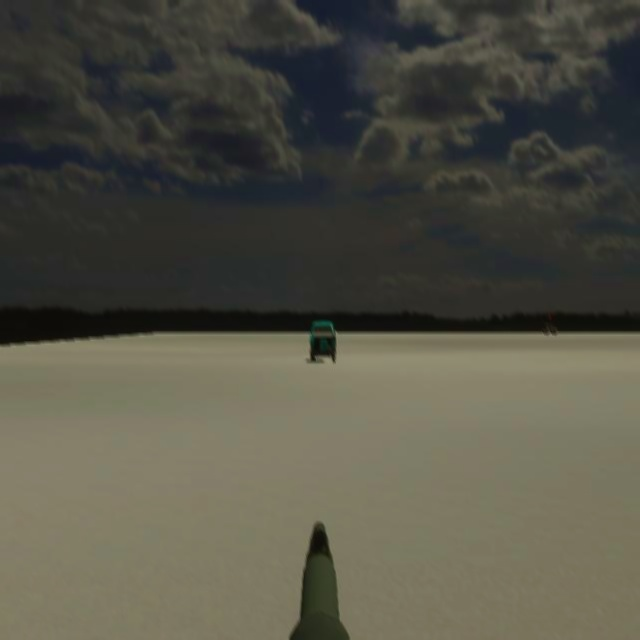green_car: (306, 319, 337, 363)
